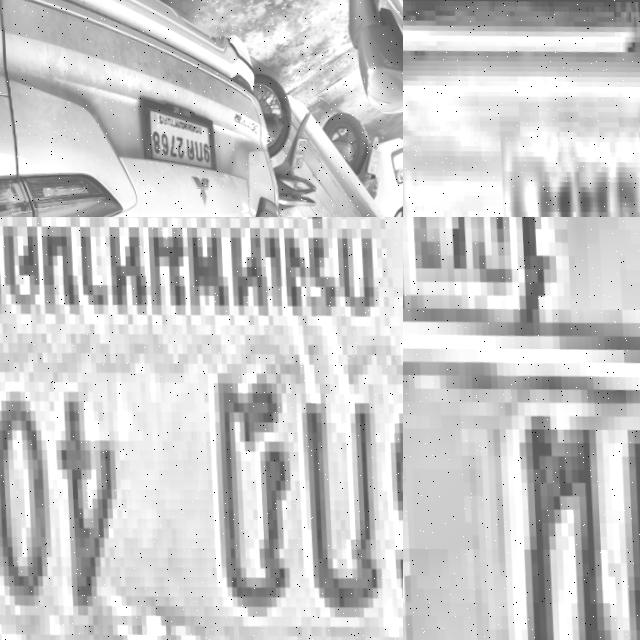license-plate: (0, 217, 403, 640), (403, 217, 640, 640), (403, 32, 640, 217), (136, 92, 217, 174), (289, 132, 310, 166), (365, 141, 385, 171)
